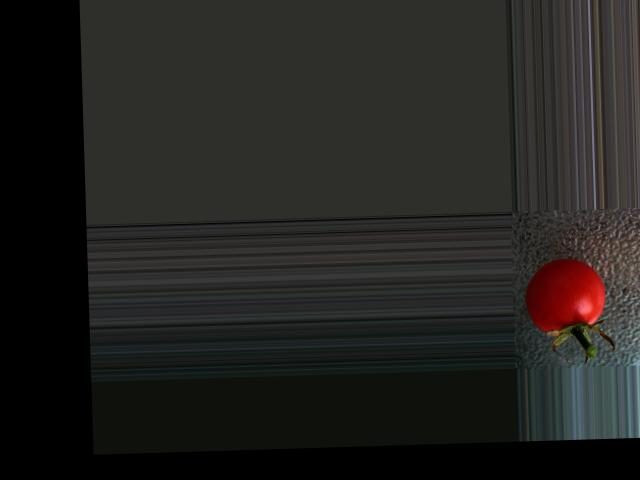tomato: (525, 256, 607, 332)
